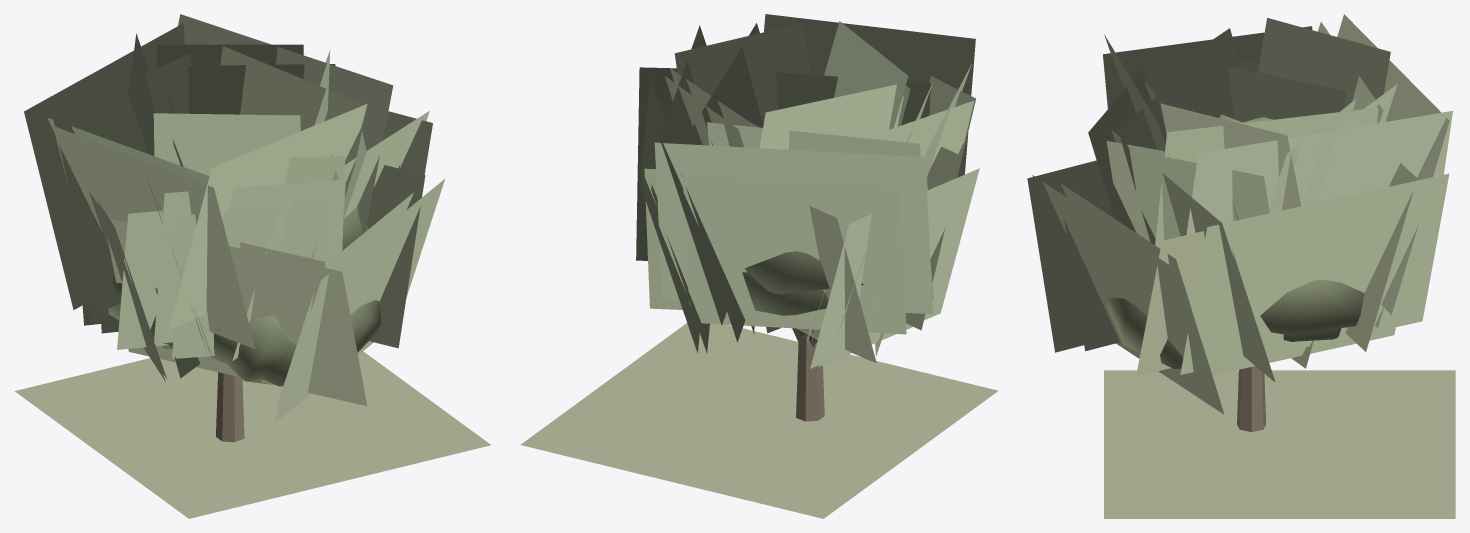
3 views of the same model, side by side, from view 1: azimuth 30°, elevation 25°; view 2: azimuth 150°, elevation 25°; view 3: azimuth 270°, elevation 25° (orthographic).
Parts seen in each view (by area): view 1: Near, Mid, Far; view 2: Near, Mid; view 3: Near, Mid.
Boxes of the visible parts, x1,y1,x2,y2 form: Near: (14, 33, 491, 518); Mid: (24, 14, 444, 423); Far: (113, 207, 368, 384); Near: (520, 14, 998, 518); Mid: (636, 25, 979, 368); Near: (1057, 18, 1455, 518); Mid: (1027, 14, 1452, 414).
Size of the model in its own units: 1.15 by 1.14 by 1.22.
